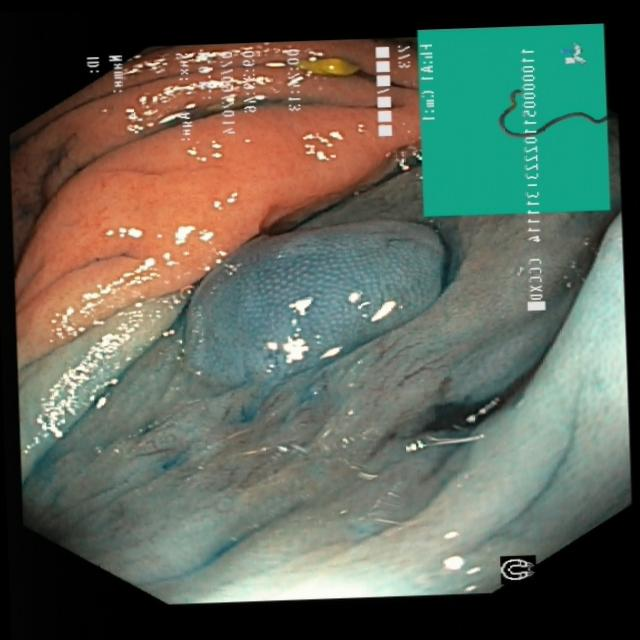dyed-lifted-polyps: (170, 216, 449, 397)
